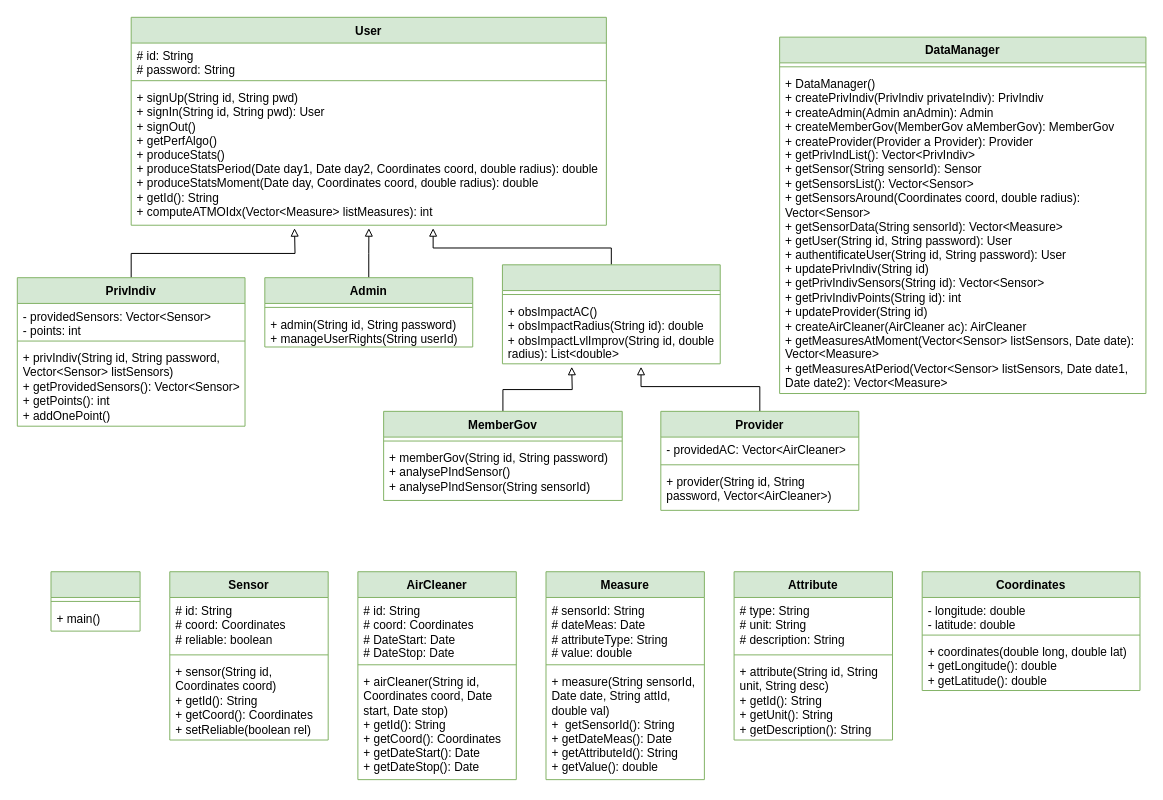
Some shapes in this 1163 by 800 pixel diagram are drawn without their labels. The shapes that lost their labels are listed below. From the top down, each one's box as (x1, y1, x2, y2) in pixels, then its label:
(501, 264, 720, 364): SuperUser
(50, 571, 140, 631): IHM
